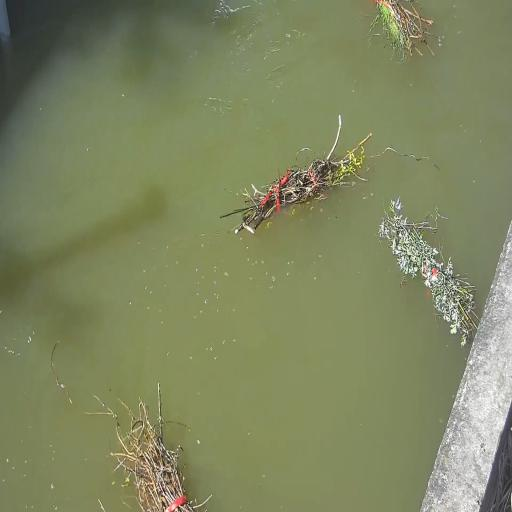twig: (219, 116, 371, 232), (378, 196, 478, 346), (112, 384, 209, 512), (370, 0, 434, 60)
